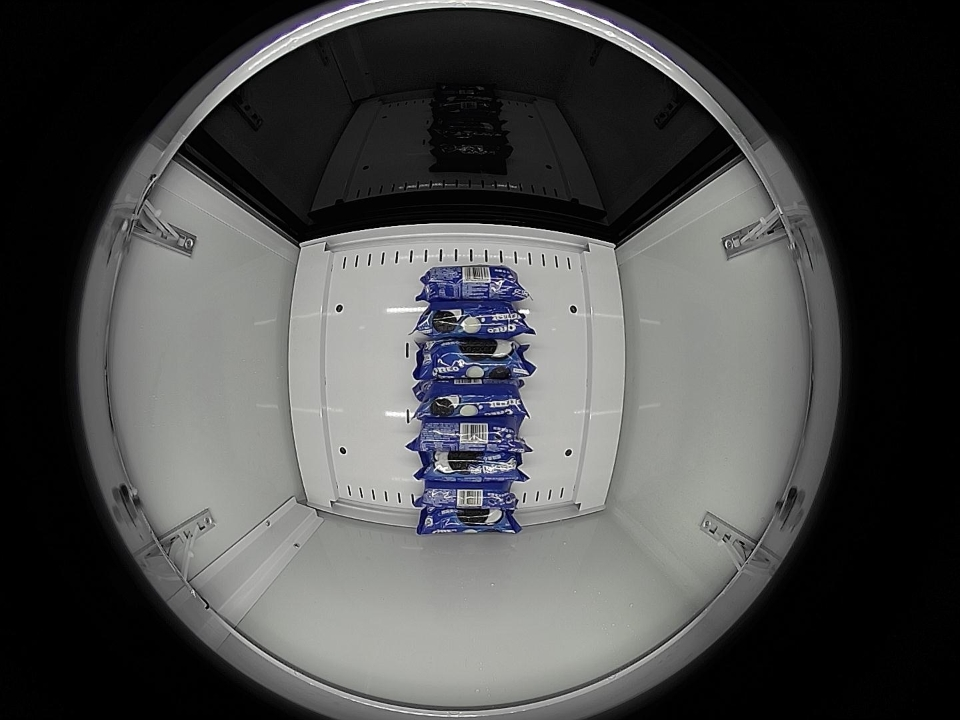aoliao: (417, 340, 533, 380), (412, 382, 528, 422), (413, 304, 531, 341), (414, 423, 530, 456), (419, 266, 525, 302), (419, 505, 520, 537), (419, 453, 522, 484), (423, 480, 518, 506)
